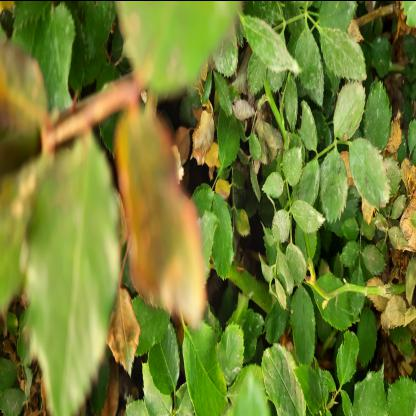black-spot: (122, 6, 230, 88), (6, 43, 40, 132)
normal: (30, 146, 120, 412)
powdery-mildew: (107, 89, 214, 332)
